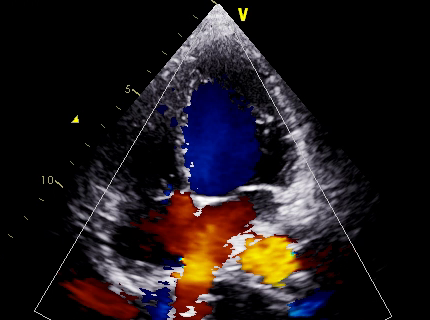MR: (191, 143, 262, 239)
